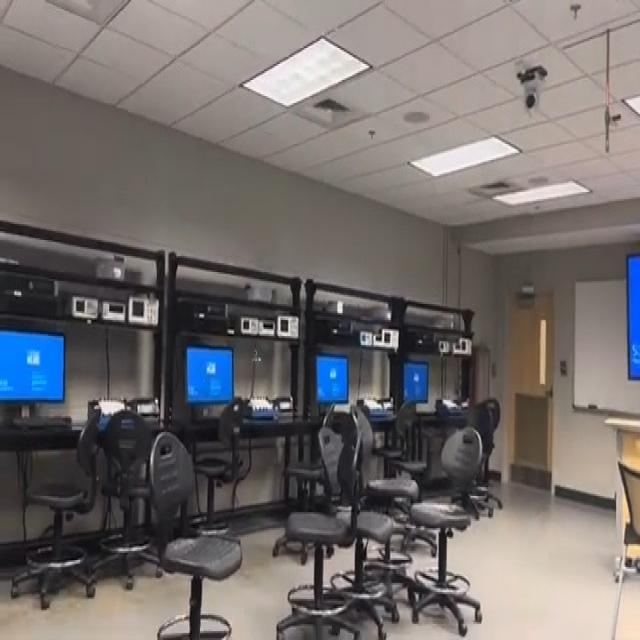drone: (246, 335, 272, 375)
